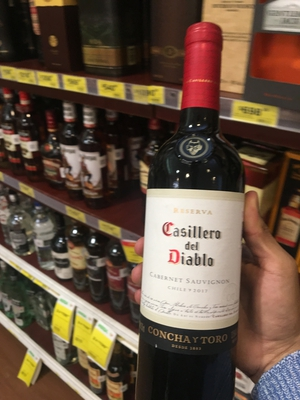casillero del diablo cabernet sauvignon: (135, 35, 246, 400)
